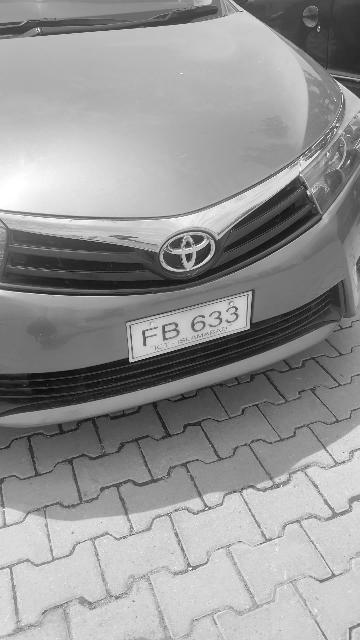Number: (137, 301, 242, 351)
